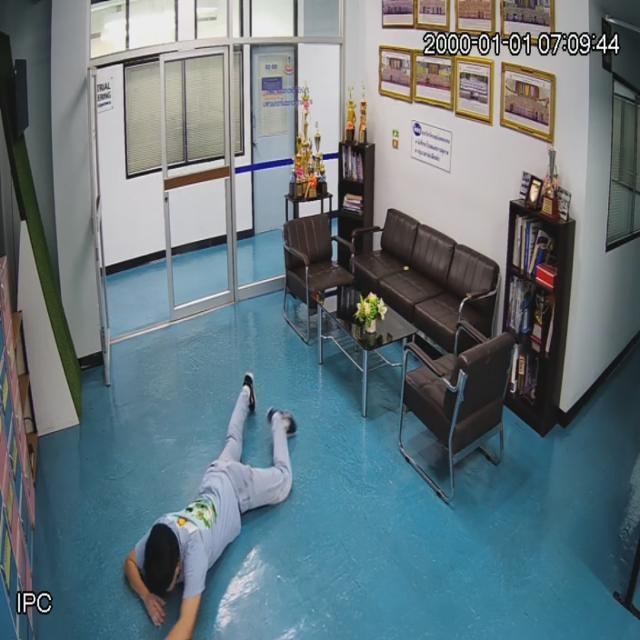fall: (129, 382, 293, 624)
